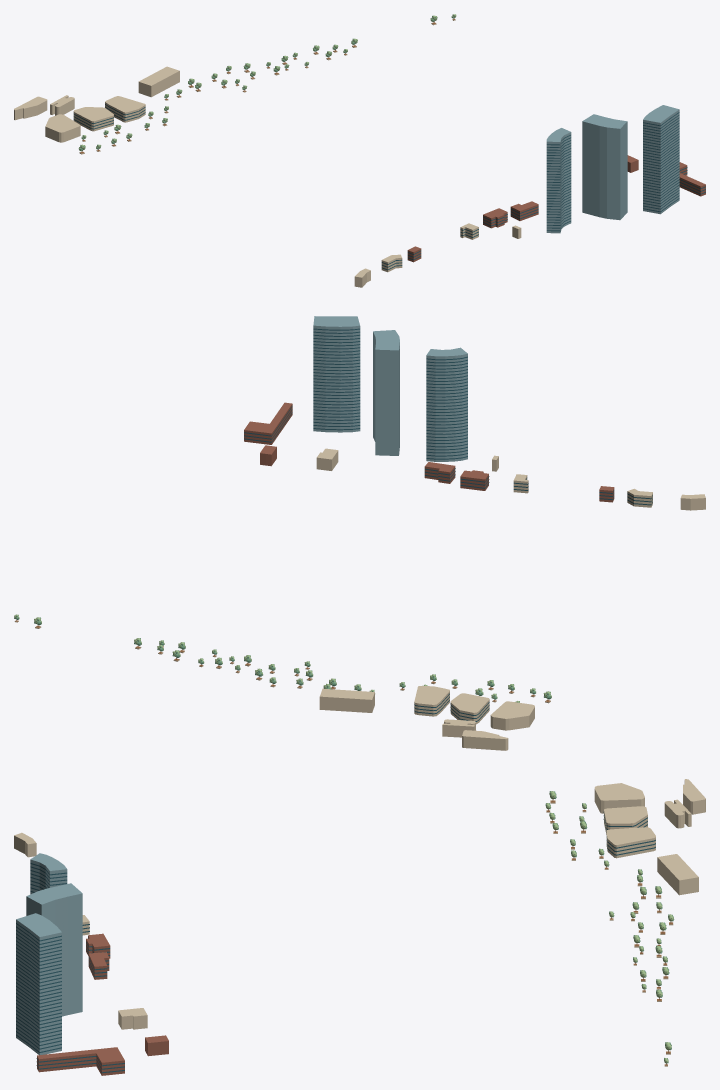
3 views of the same model, one above another, from view 1: azimuth 30°, elevation 25°; view 2: azimuth 150°, elevation 25°; view 3: azimuth 270°, elevation 25° (orthographic). The views are drawn at different scales.
Visible parts, largest first — view 1: osm-relation-12898502.002, osm-relation-12898502.001, osm-relation-12898502, osm-way-477624445, osm-way-534041348, osm-way-534041351, osm-way-534041345, osm-way-534041329, osm-way-959022834; view 2: osm-relation-12898502.001, osm-relation-12898502, osm-relation-12898502.002, osm-way-477624445, osm-way-534041351, osm-way-959022834, osm-way-534041345, osm-way-534041348, osm-way-534041329; view 3: osm-relation-12898502.001, osm-relation-12898502.002, osm-way-959022834, osm-way-534041345, osm-way-477624445, osm-relation-12898502, osm-way-534041351, osm-way-534041348, osm-way-534041329, osm-way-965030443, osm-way-534041341, osm-way-164959125.
Part boxes in pixels (x1=…): osm-relation-12898502.002: x1=582, y1=114, x2=627, y2=220; osm-relation-12898502.001: x1=643, y1=105, x2=679, y2=214; osm-relation-12898502: x1=546, y1=128, x2=571, y2=233; osm-way-477624445: x1=138, y1=66, x2=179, y2=97; osm-way-534041348: x1=73, y1=107, x2=113, y2=131; osm-way-534041351: x1=45, y1=114, x2=80, y2=142; osm-way-534041345: x1=105, y1=96, x2=145, y2=122; osm-way-534041329: x1=14, y1=96, x2=47, y2=120; osm-way-959022834: x1=679, y1=162, x2=705, y2=196; osm-relation-12898502.001: x1=313, y1=316, x2=360, y2=432; osm-relation-12898502: x1=426, y1=347, x2=467, y2=461; osm-relation-12898502.002: x1=373, y1=330, x2=399, y2=455; osm-way-477624445: x1=319, y1=688, x2=374, y2=712; osm-way-534041351: x1=490, y1=701, x2=534, y2=730; osm-way-959022834: x1=244, y1=402, x2=292, y2=444; osm-way-534041345: x1=414, y1=686, x2=449, y2=716; osm-way-534041348: x1=450, y1=693, x2=489, y2=724; osm-way-534041329: x1=462, y1=730, x2=508, y2=750; osm-relation-12898502.001: x1=16, y1=913, x2=61, y2=1054; osm-relation-12898502.002: x1=26, y1=883, x2=82, y2=1016; osm-way-959022834: x1=36, y1=1047, x2=124, y2=1075; osm-way-534041345: x1=606, y1=827, x2=655, y2=858; osm-way-477624445: x1=657, y1=854, x2=698, y2=895; osm-relation-12898502: x1=30, y1=853, x2=67, y2=894; osm-way-534041351: x1=594, y1=783, x2=644, y2=813; osm-way-534041348: x1=603, y1=806, x2=647, y2=834; osm-way-534041329: x1=683, y1=779, x2=705, y2=814; osm-way-965030443: x1=118, y1=1008, x2=147, y2=1029; osm-way-534041341: x1=664, y1=799, x2=691, y2=828; osm-way-164959125: x1=88, y1=952, x2=109, y2=979.
Size of the model in its own units: 698 by 136 by 719.
